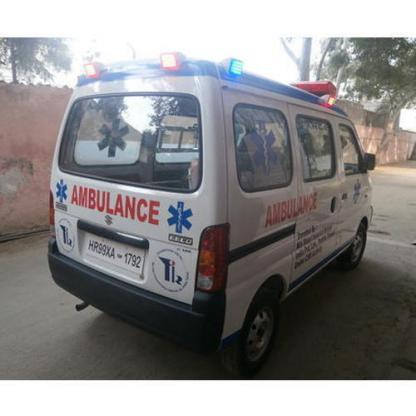Ambulance: (64, 178, 169, 233), (159, 197, 201, 243)
